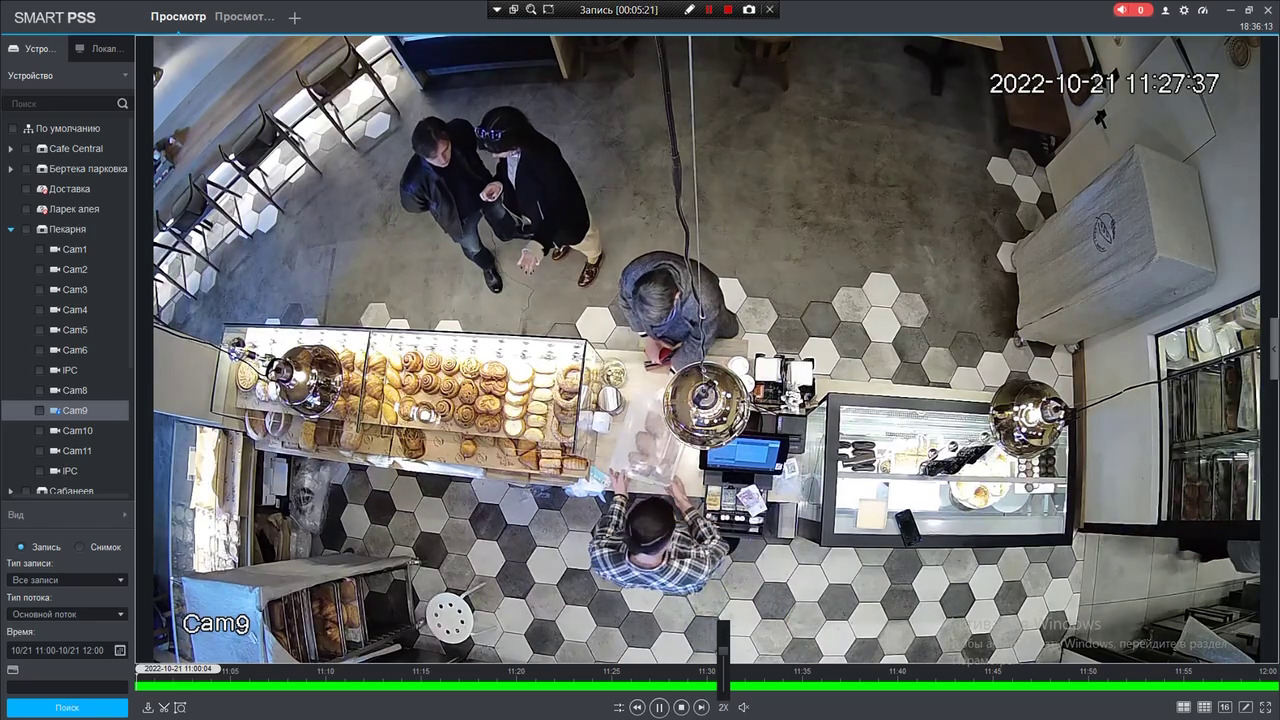barcounter: (216, 317, 1086, 560)
openedcash: (701, 426, 786, 535)
pack: (614, 391, 689, 486)
person: (610, 255, 738, 358)
